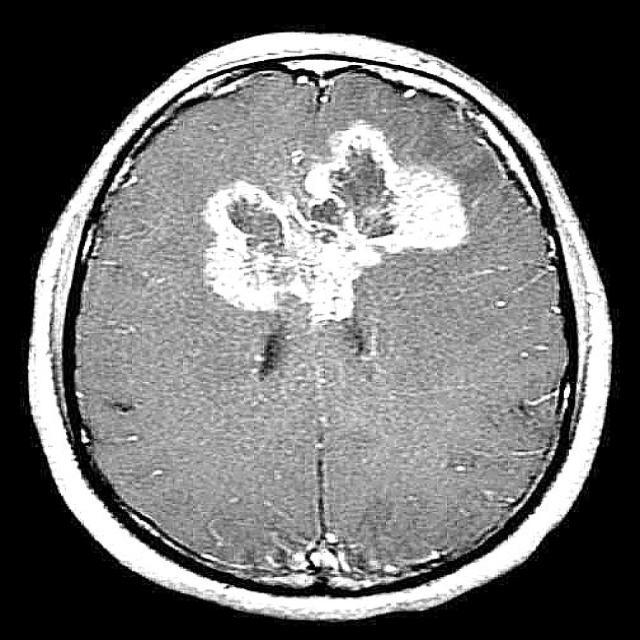brain tumor: (202, 119, 469, 324)
